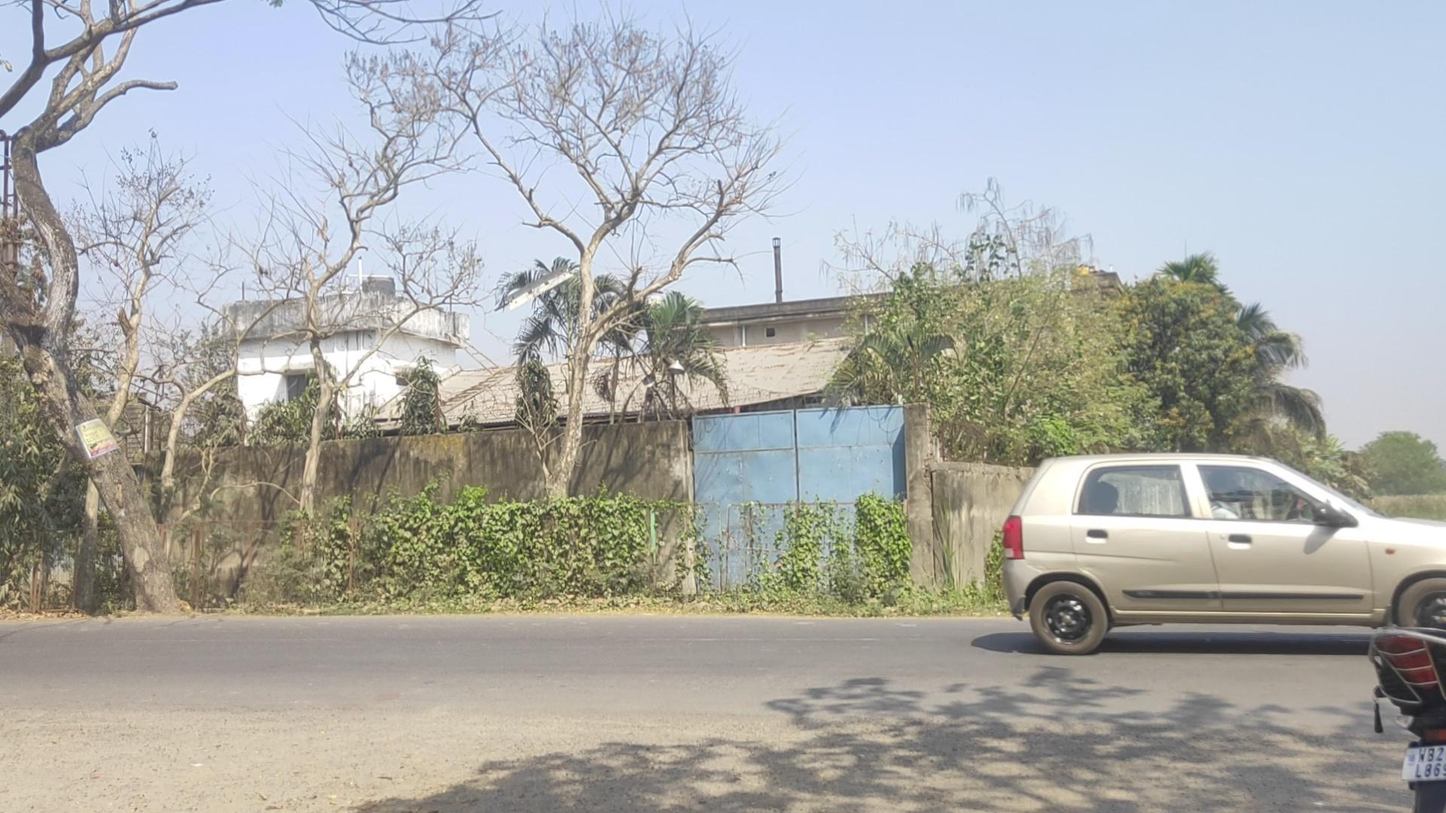car: (1001, 452, 1446, 656)
